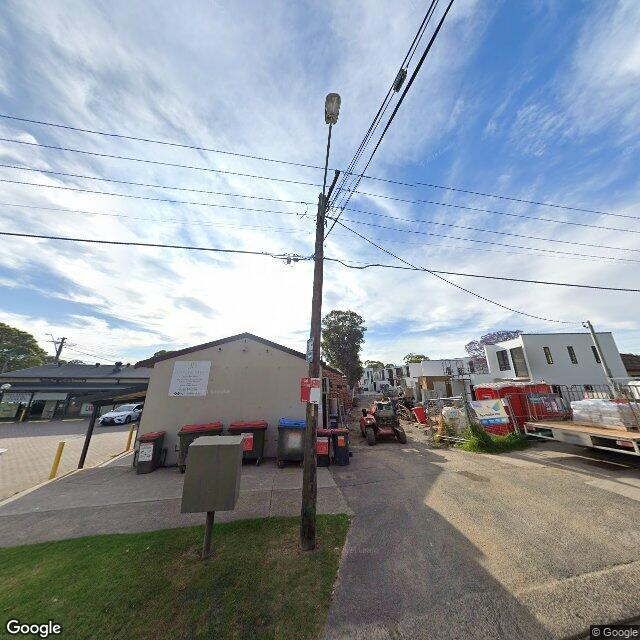crossarm: (316, 170, 340, 214), (56, 337, 67, 340)
steel-pole: (586, 321, 620, 398)
streetlight: (319, 93, 341, 223), (44, 333, 56, 346)
timber-pole: (299, 192, 329, 550), (56, 336, 65, 358)
